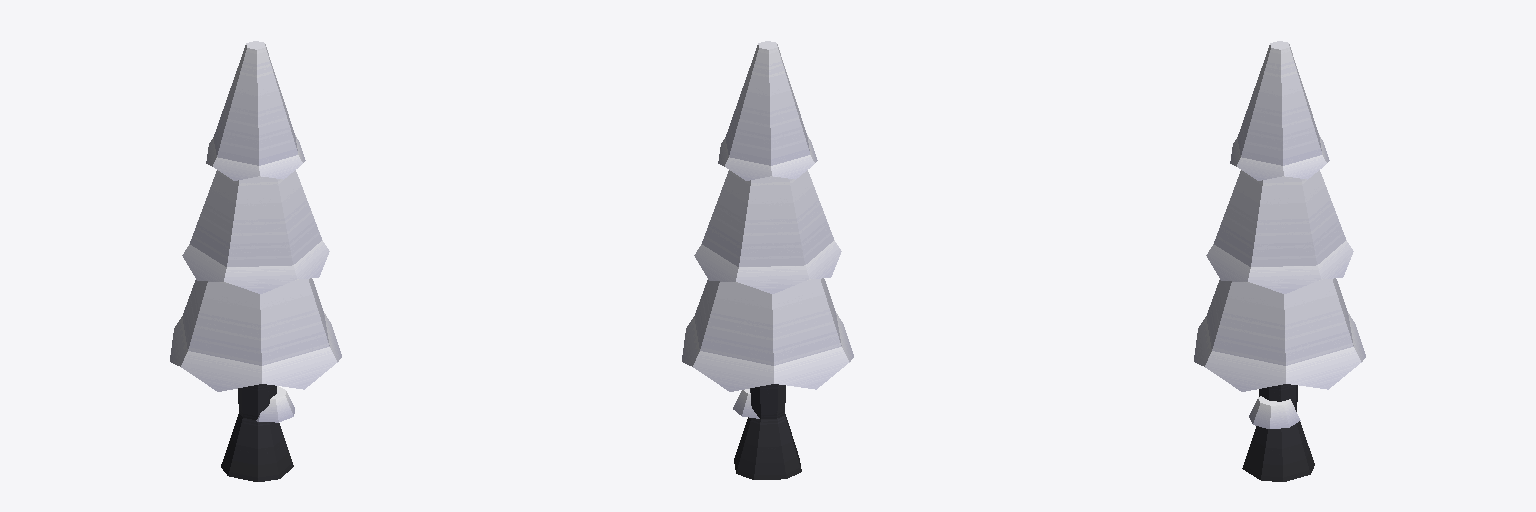
The picture shows the model from 3 angles: view 1: azimuth 30°, elevation 25°; view 2: azimuth 150°, elevation 25°; view 3: azimuth 270°, elevation 25°; orthographic projection.
Visible parts, largest first — view 1: tree.029; view 2: tree.029; view 3: tree.029.
Boxes of the visible parts, x1,y1,x2,y2 form: tree.029: [170, 41, 341, 481]; tree.029: [682, 41, 853, 479]; tree.029: [1194, 41, 1365, 481].
Size of the model in its own units: 1.36 by 3.47 by 1.29.
Materials: 1 (1 with a texture image).